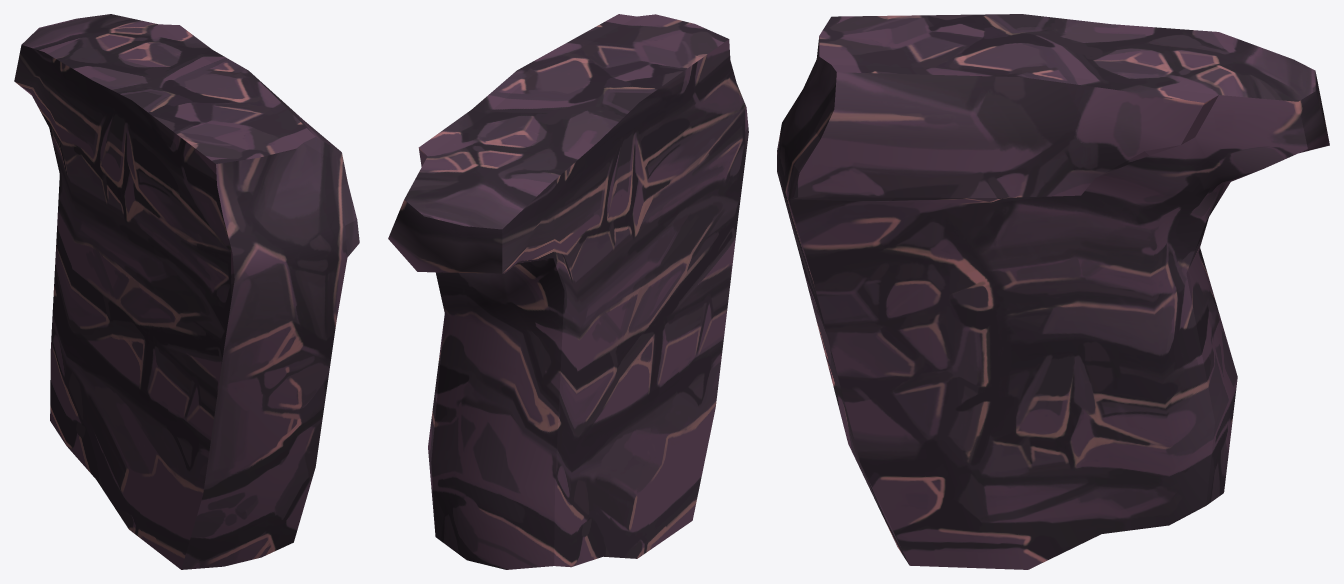
Rendered from tt_forest_right_cliff.FBX.
The picture shows the model from 3 angles, left to right: view 1: azimuth 30°, elevation 25°; view 2: azimuth 150°, elevation 25°; view 3: azimuth 270°, elevation 25°; orthographic projection. The views are drawn at different scales.
Parts seen in each view (by area): view 1: tt_forest_right_cliff; view 2: tt_forest_right_cliff; view 3: tt_forest_right_cliff.
Boxes of the visible parts, box(x1,y1,x2,y2) form: tt_forest_right_cliff: box(14, 14, 359, 569); tt_forest_right_cliff: box(388, 14, 748, 569); tt_forest_right_cliff: box(777, 14, 1329, 569).
Bounding box in the file's own units: 295 × 809 × 822.
